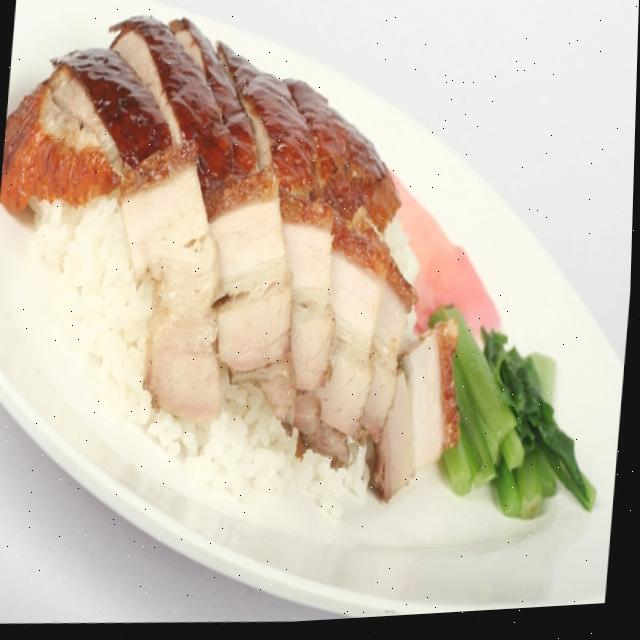米饭主食: (0, 0, 619, 621)
